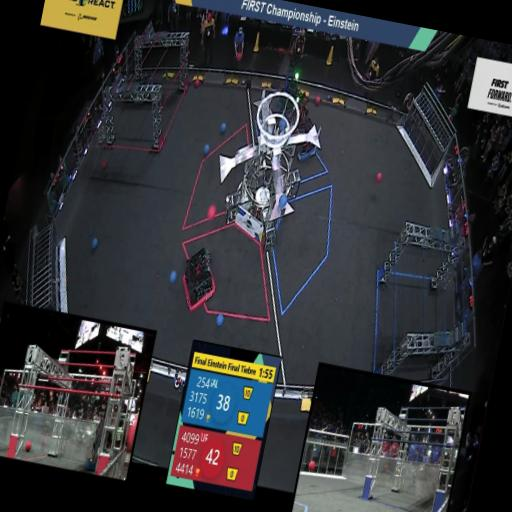robot: (172, 246, 223, 318), (292, 118, 324, 168), (83, 414, 109, 470)
